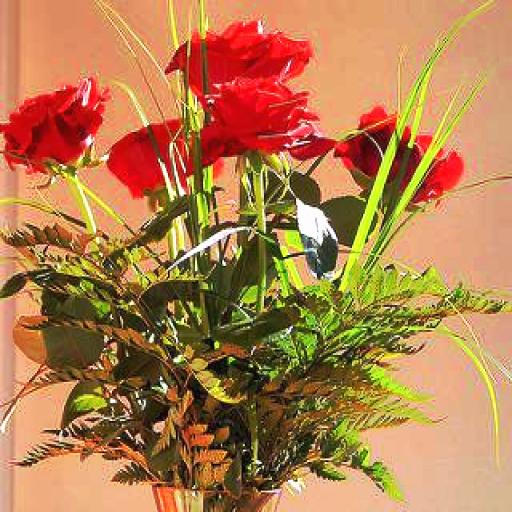rose: (197, 78, 333, 166), (168, 16, 315, 95), (338, 105, 460, 200), (106, 118, 224, 198)
